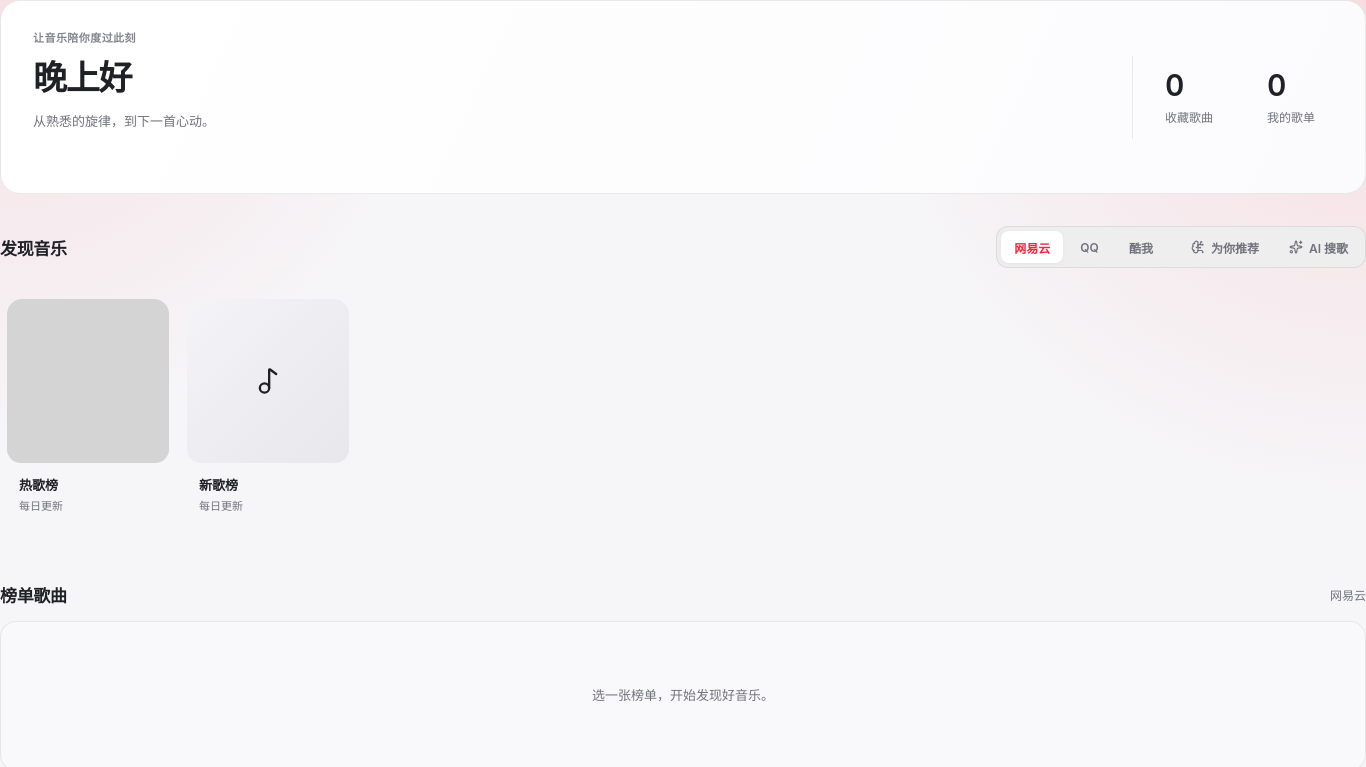
it: AI 搜歌 › 空结果与两类失败给出可行动反馈，输入法 Enter 不提交
Click the button "AI 搜歌": (1318, 247) [1276,231,1361,263]
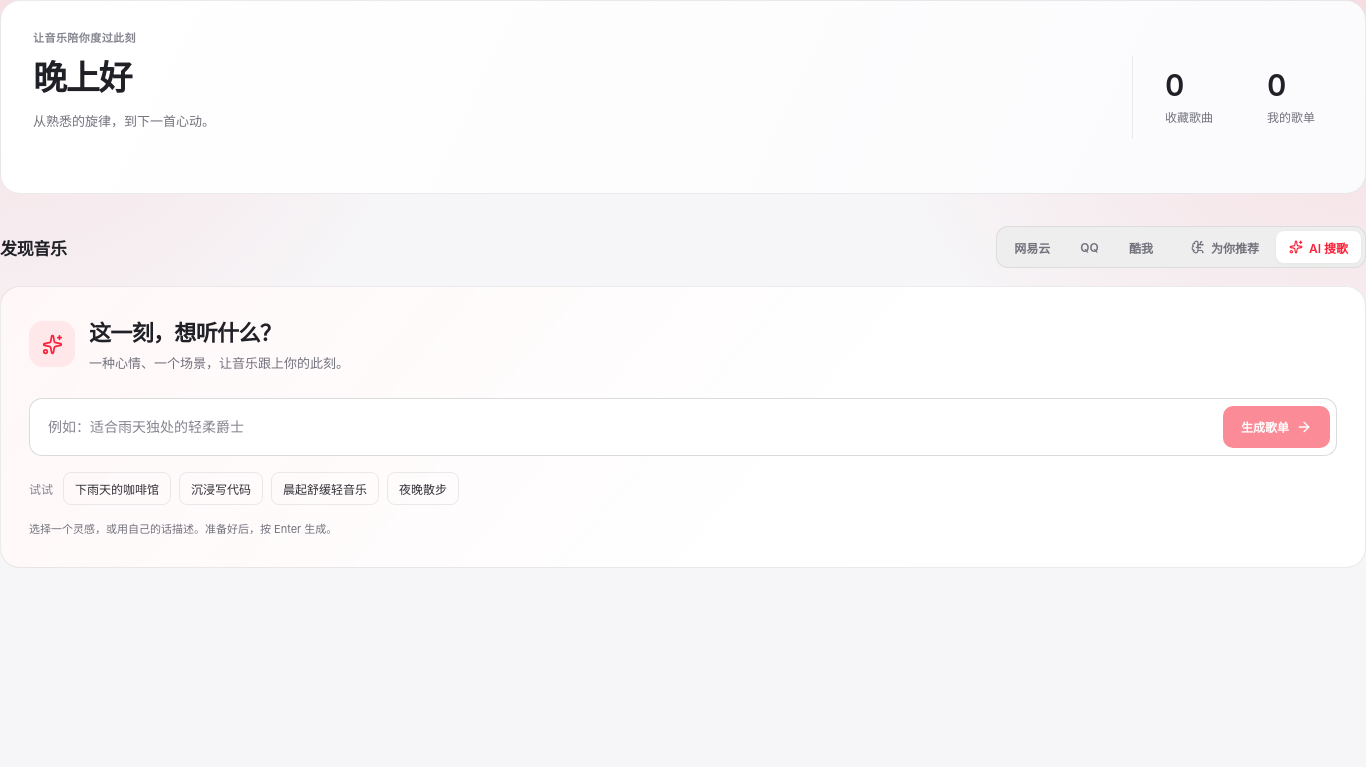
Click the button "夜晚散步": (423, 488) [387,472,459,505]
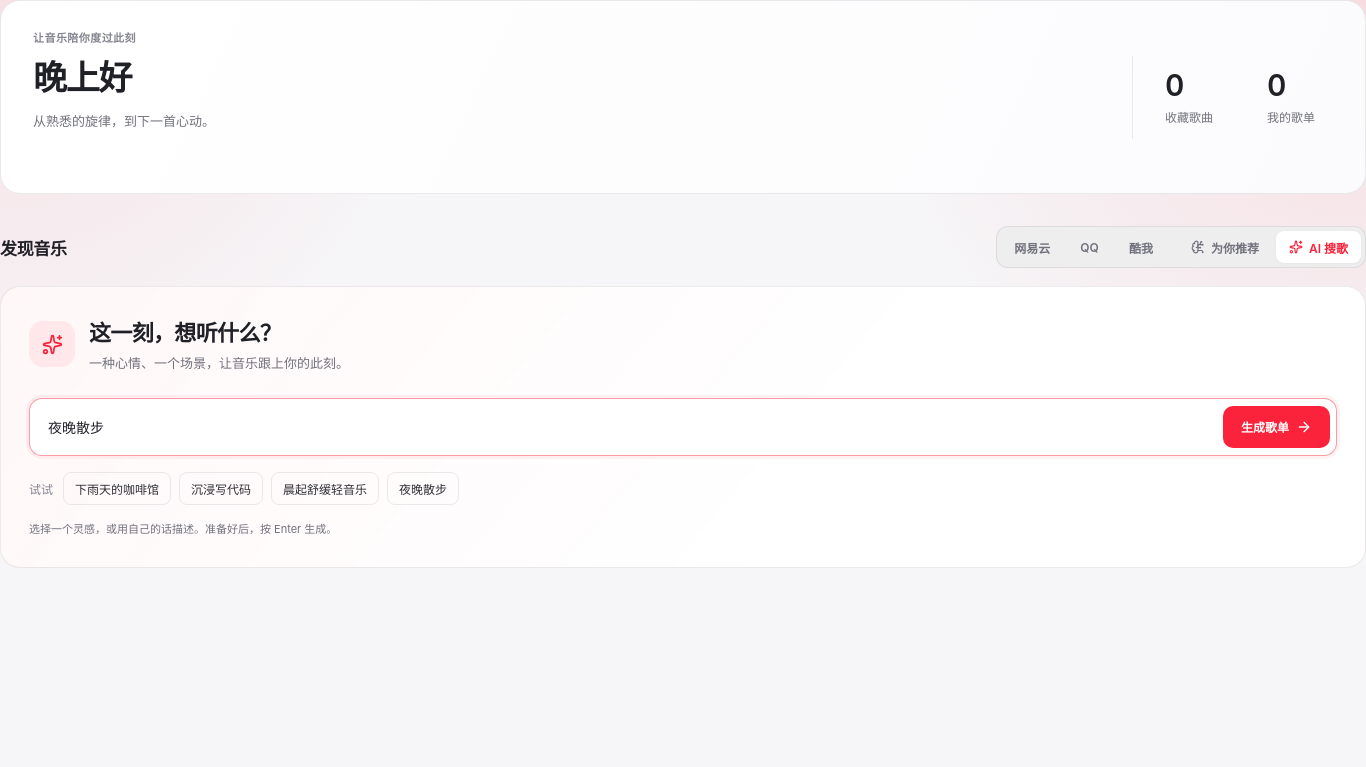
Press Enter in the field named "描述想听的音乐", box [36,405,1213,449]
Submit the form named "描述想听的音乐", box [29,398,1337,456]
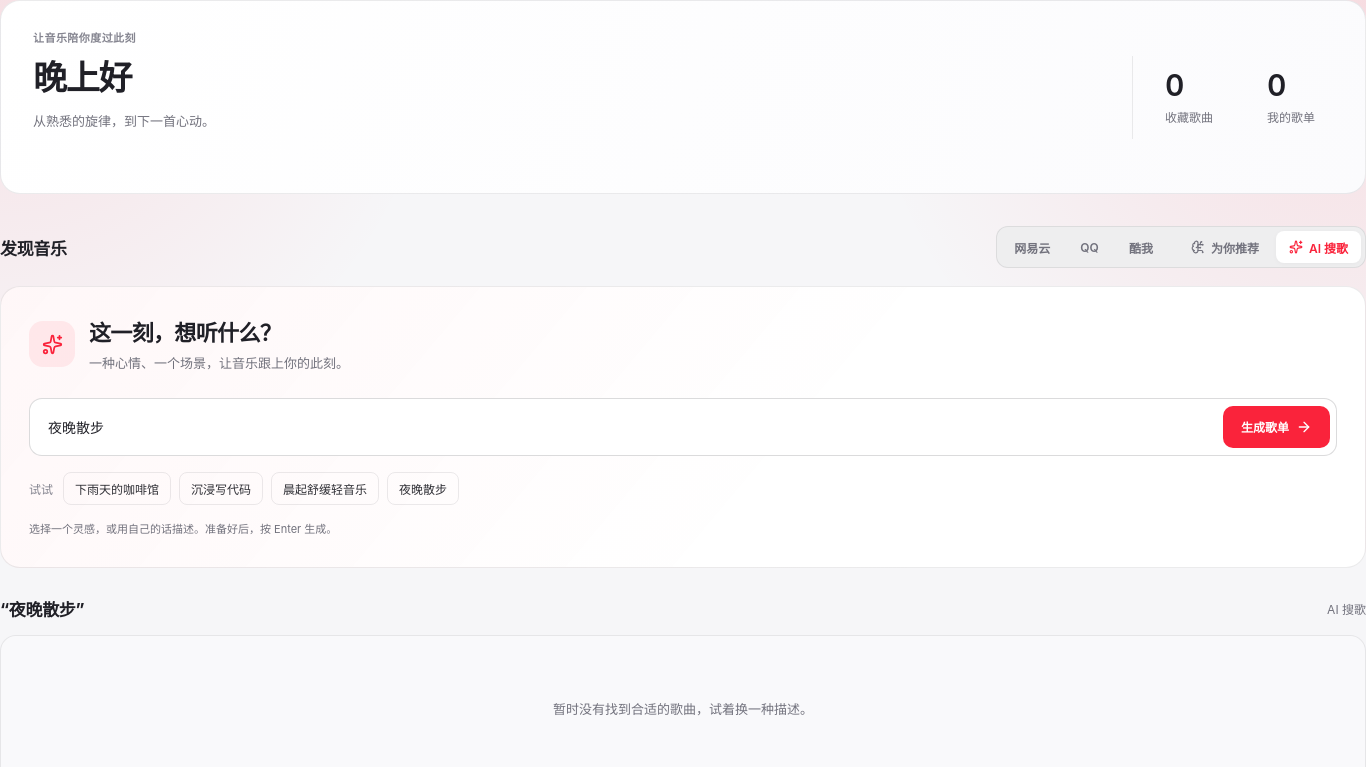
Submit the form named "描述想听的音乐", box [29,398,1337,456]
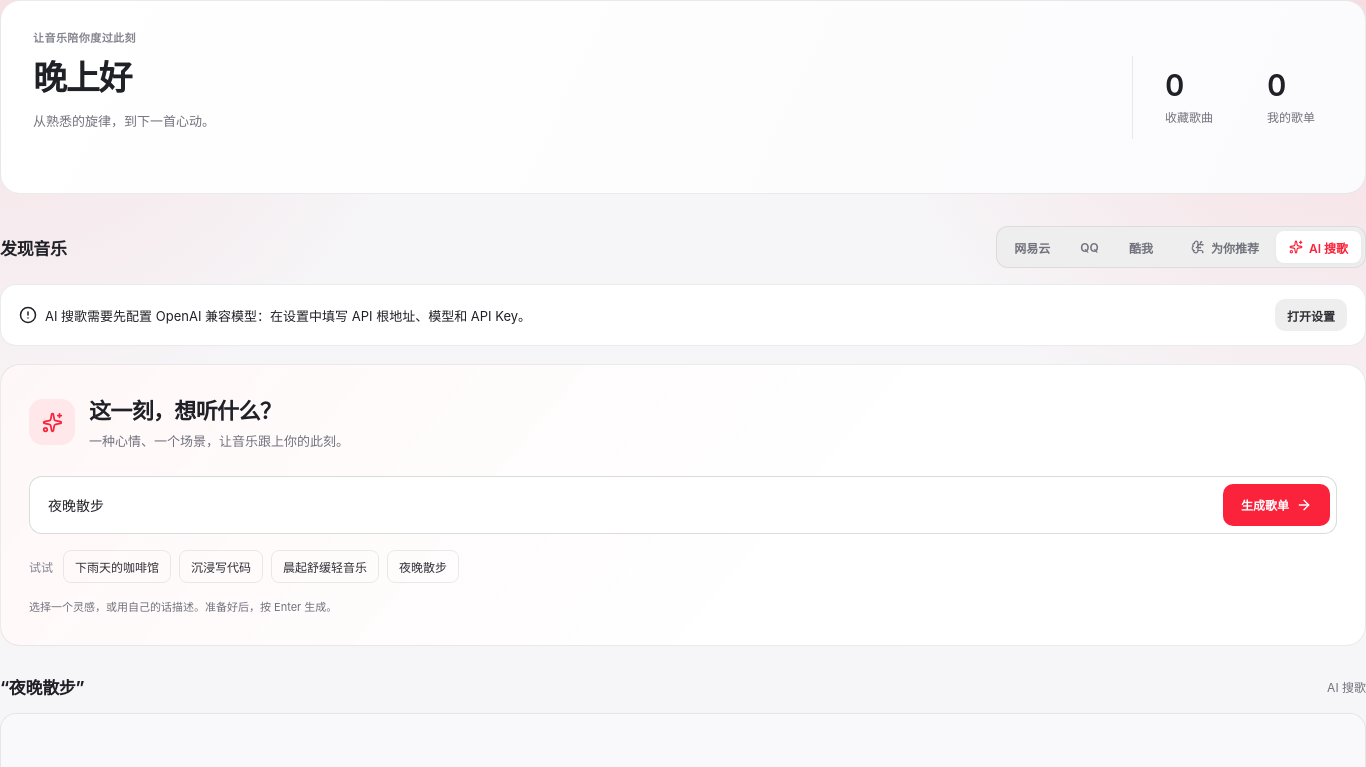
Expected: the text "AI 搜歌需要先配置 OpenAI 兼容模型：在设置中填写 API 根地址、模型和 API Key。" is shown, [19,306,531,324]
Expected: the button "打开设置" is shown, [1275,299,1347,331]
Submit the form named "描述想听的音乐", box [29,476,1337,534]
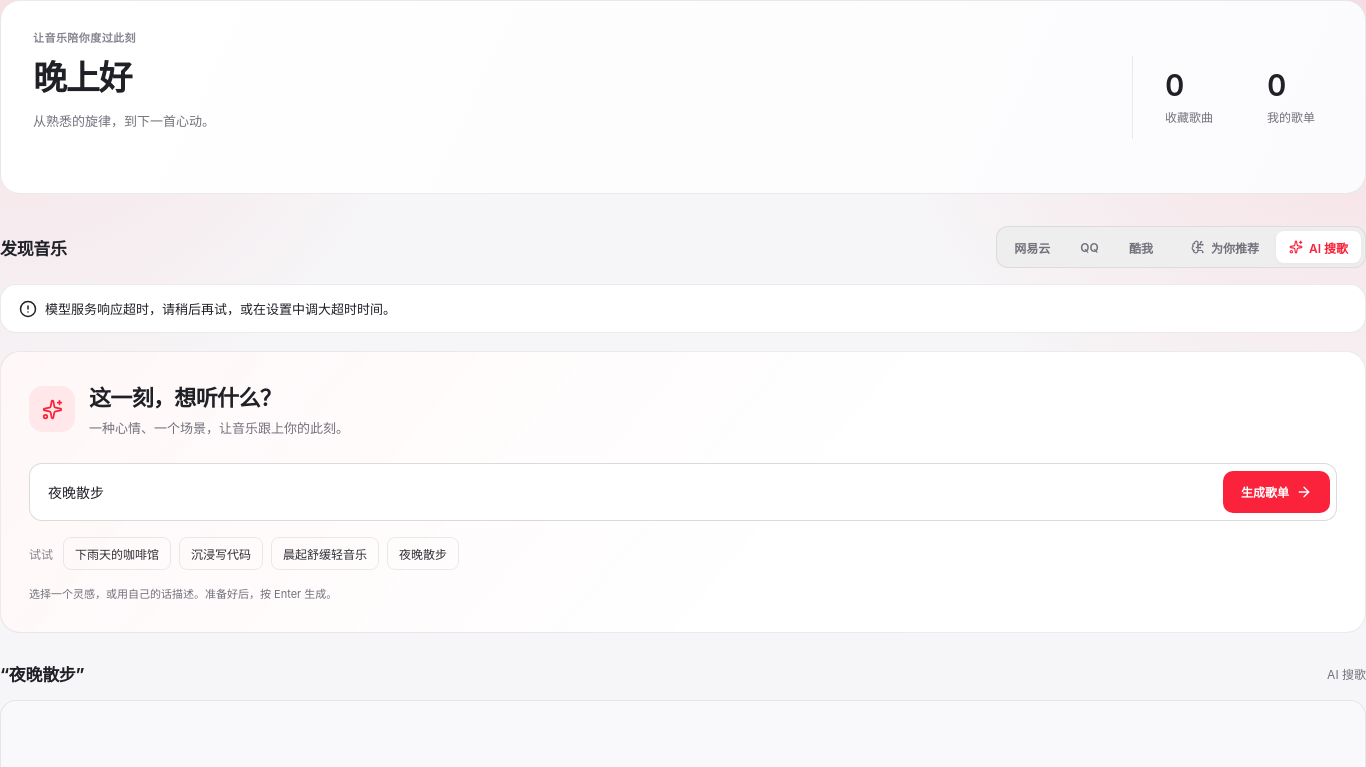
Expected: the text "模型服务响应超时，请稍后再试，或在设置中调大超时时间。" is shown, [19,299,396,318]
